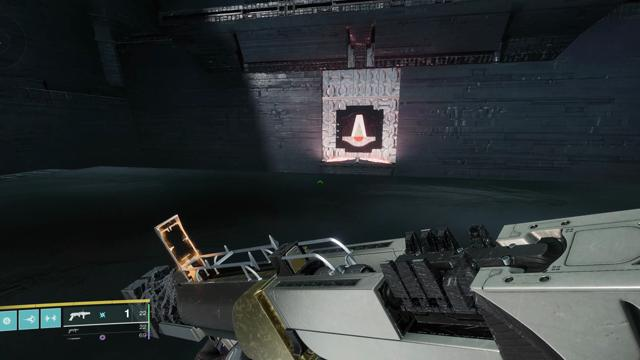enter: (341, 112, 376, 147)
